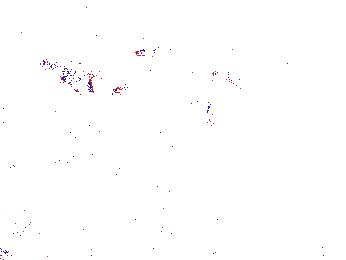glassfish: (204, 73, 230, 125)
red belly glassfish: (111, 79, 142, 94)
redtail glassfish: (39, 57, 96, 87), (134, 43, 177, 60)
